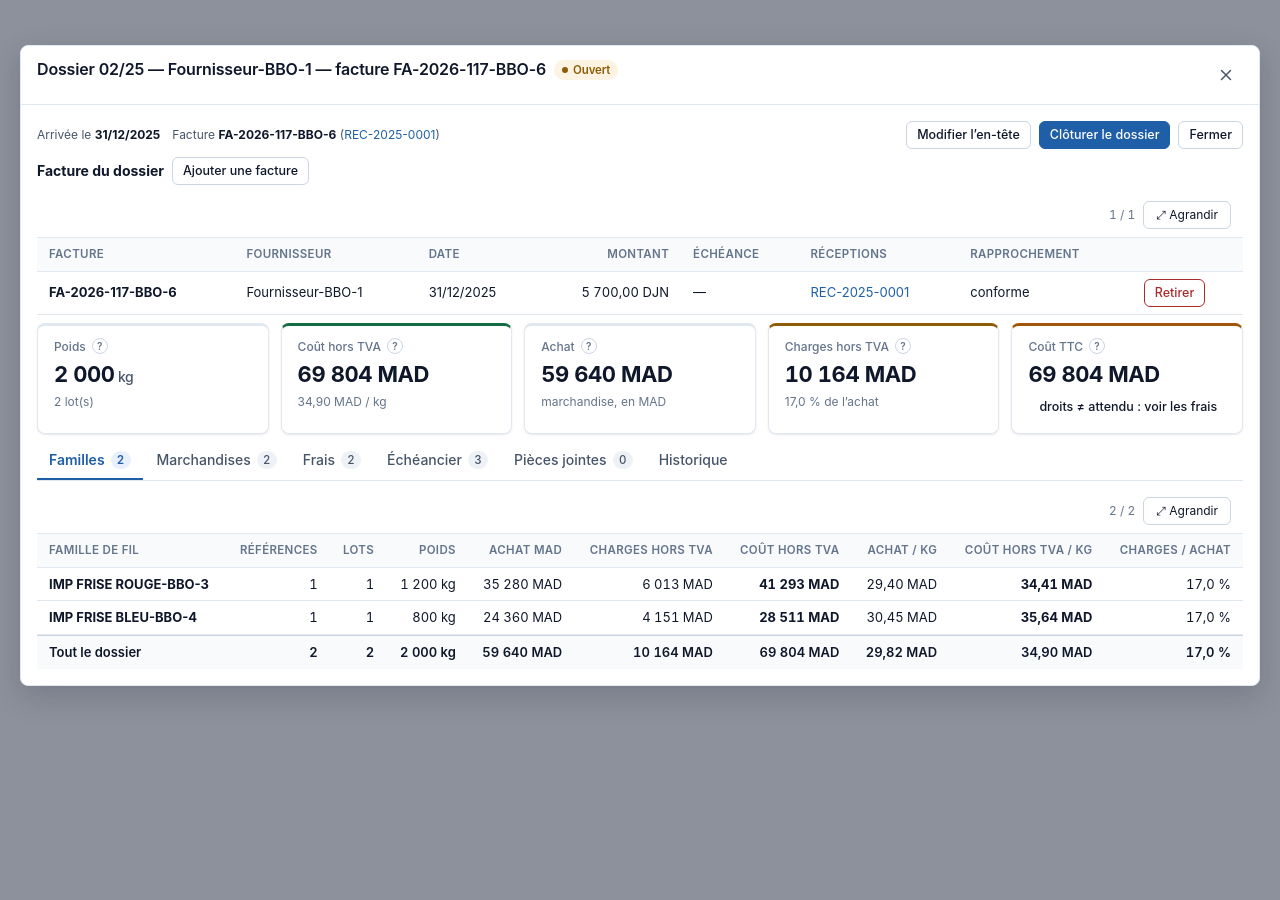
Test: Fiche dossier › clôture › un refus confirmation_requise relit la fiche et garde la fenêtre ouverte
Click the button "Clôturer le dossier" at x=1105, y=135, box [1039,121,1170,149]
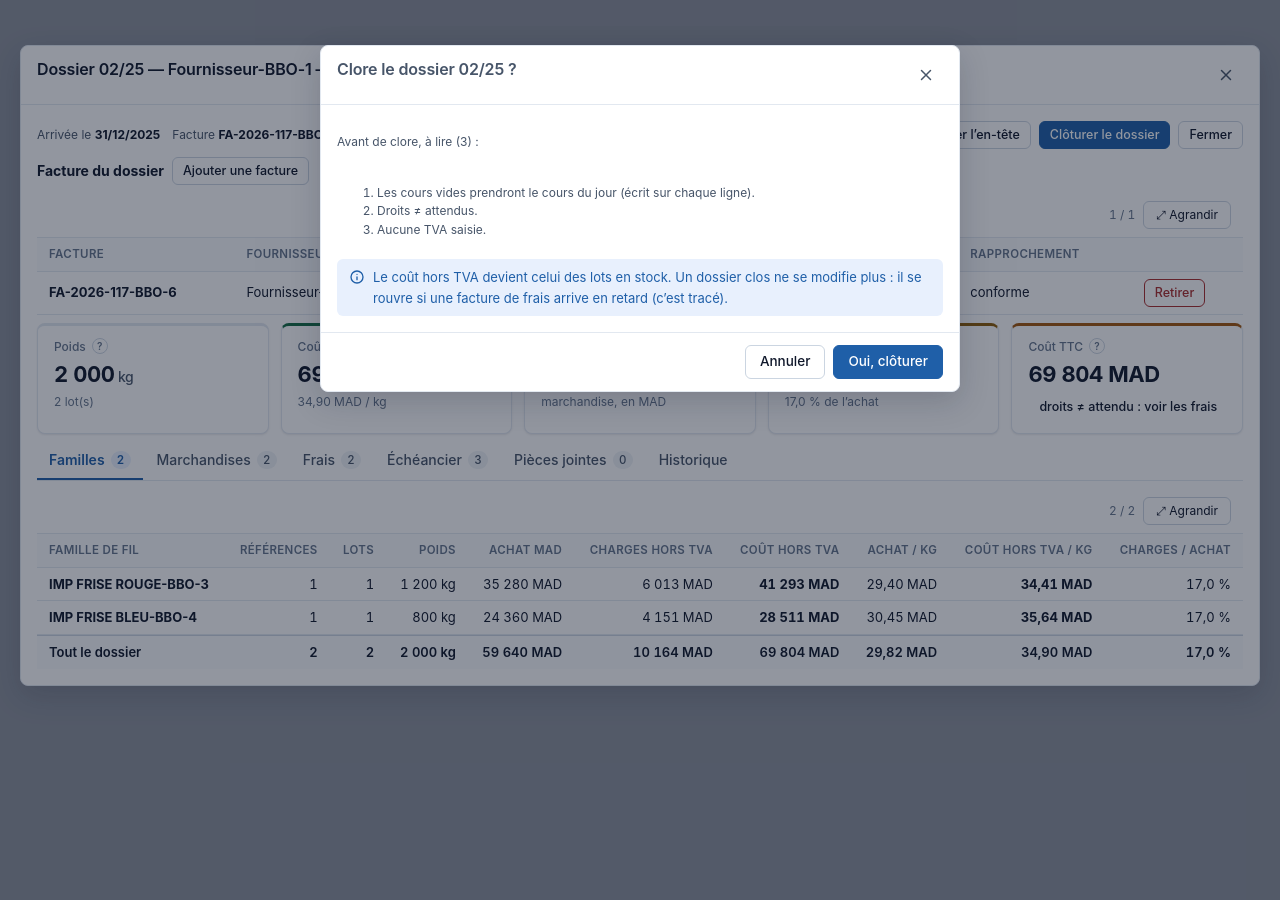
Click the button "Oui, clôturer" at x=888, y=362, box [833,345,943,379]
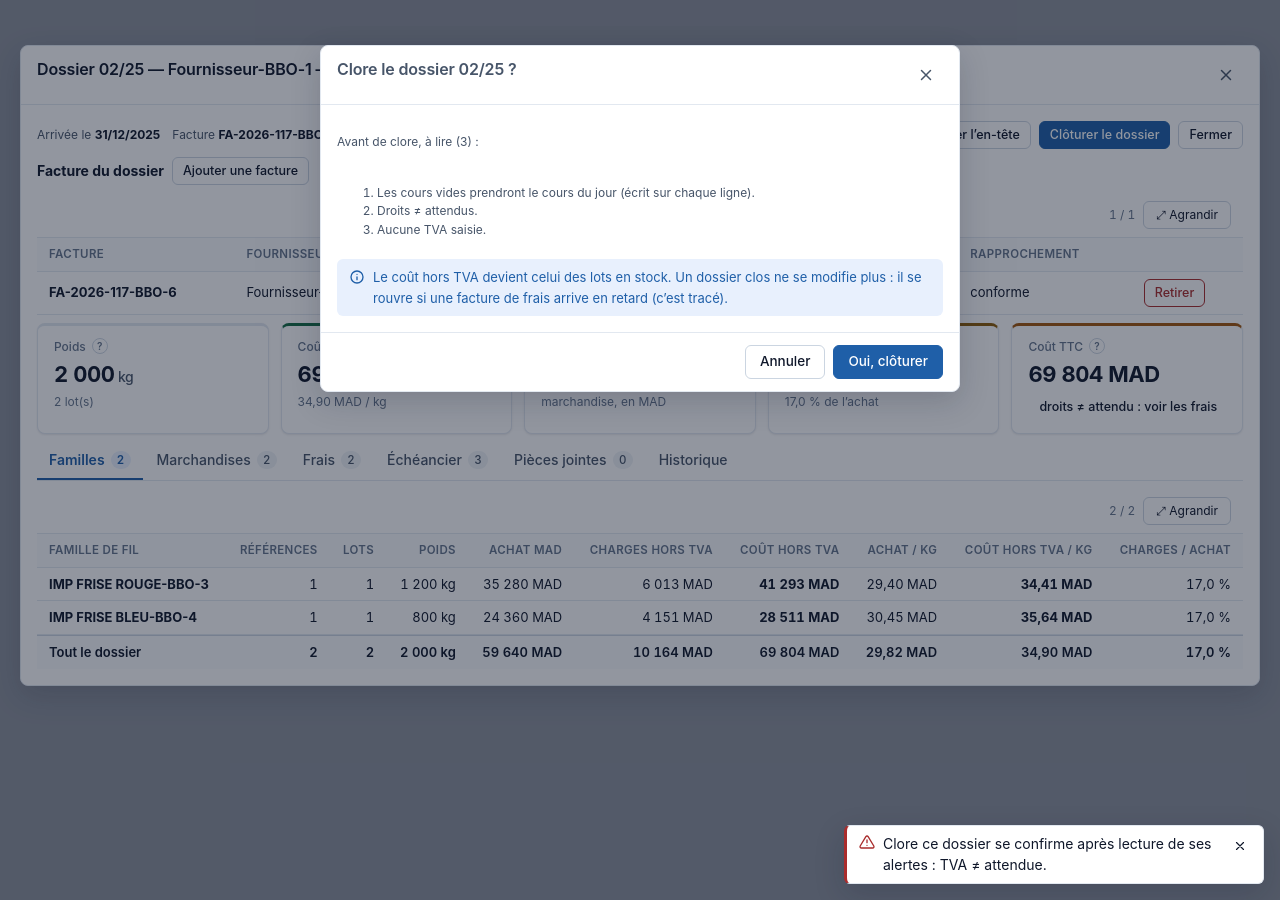
Check: the button "Oui, clôturer" is shown, box [833,345,943,379]
Check: the text "se confirme après lecture de ses alertes" is shown, box [883,835,1212,873]
